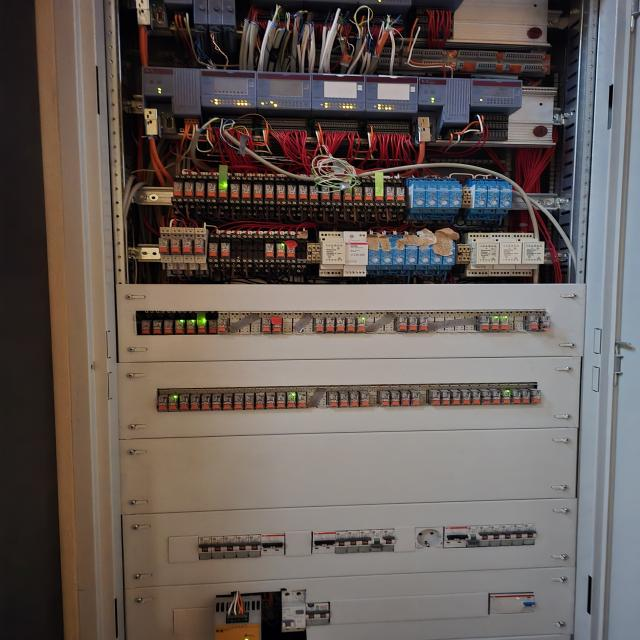Dimmer: (489, 233, 523, 276), (511, 233, 545, 276), (467, 233, 499, 276), (319, 231, 345, 277), (343, 231, 368, 277), (478, 179, 500, 220), (491, 180, 513, 221), (466, 179, 487, 220), (406, 178, 426, 220), (417, 178, 437, 219), (442, 178, 461, 220), (431, 178, 449, 220), (442, 234, 456, 273), (405, 234, 418, 274), (367, 234, 380, 271), (418, 234, 430, 274), (380, 234, 392, 272), (393, 234, 405, 272), (431, 234, 442, 275)
FI: (489, 592, 535, 614)
FI_Sicherungskombi: (281, 591, 306, 632)
Leitungsschutzschalter: (198, 537, 212, 559), (223, 536, 237, 558), (237, 535, 250, 558), (336, 530, 348, 554), (317, 602, 329, 624), (212, 537, 224, 559), (249, 535, 261, 557), (261, 534, 273, 556), (313, 532, 325, 554), (359, 530, 371, 552), (444, 526, 456, 548), (467, 526, 479, 548), (512, 524, 524, 546), (273, 534, 285, 555), (324, 532, 336, 553), (524, 524, 536, 545), (306, 604, 317, 626), (371, 530, 382, 552), (383, 530, 394, 552), (348, 531, 359, 552), (478, 526, 489, 547), (490, 525, 501, 546), (501, 525, 512, 546), (456, 526, 466, 548)
Relais: (218, 318, 230, 334), (170, 238, 181, 254), (265, 393, 276, 409), (526, 316, 538, 330), (276, 185, 287, 200), (478, 316, 489, 331), (184, 181, 194, 197), (287, 184, 297, 200), (364, 186, 374, 202), (158, 238, 168, 254), (182, 238, 192, 254), (194, 238, 204, 254), (396, 316, 406, 332), (297, 392, 307, 408), (328, 391, 338, 407), (350, 391, 360, 407), (442, 390, 452, 406), (229, 184, 240, 198), (196, 182, 206, 197), (207, 182, 217, 197), (218, 183, 228, 198), (253, 184, 263, 199), (298, 185, 308, 200), (309, 185, 319, 200), (353, 186, 363, 201), (208, 243, 218, 258), (490, 316, 500, 331), (276, 393, 286, 408), (375, 186, 384, 202), (408, 316, 417, 332), (223, 394, 232, 410), (245, 394, 254, 410), (360, 391, 369, 407), (242, 184, 252, 198), (220, 243, 230, 257), (140, 320, 150, 334), (197, 320, 207, 334), (272, 318, 282, 332), (418, 317, 428, 331), (168, 396, 178, 410), (190, 396, 200, 410), (201, 396, 211, 410), (212, 395, 222, 409), (234, 395, 244, 409), (339, 392, 349, 406), (482, 391, 492, 405), (174, 182, 183, 197), (265, 184, 274, 199), (276, 243, 285, 258), (346, 317, 355, 332), (499, 316, 508, 331), (541, 316, 550, 331), (287, 393, 296, 408), (391, 391, 400, 406), (431, 390, 440, 405), (256, 393, 264, 409), (321, 186, 330, 200), (332, 186, 341, 200), (396, 187, 405, 201), (265, 244, 274, 258), (208, 320, 217, 334), (262, 318, 271, 332), (315, 318, 324, 332), (336, 318, 345, 332), (357, 318, 366, 332), (180, 396, 189, 410), (380, 392, 389, 406), (412, 391, 421, 405), (532, 390, 541, 404), (159, 396, 167, 411), (472, 392, 482, 404), (502, 390, 510, 405), (522, 389, 530, 404), (386, 187, 395, 200), (493, 391, 502, 404), (512, 391, 521, 404), (287, 244, 295, 258), (154, 320, 162, 334), (165, 320, 173, 334), (176, 320, 184, 334), (326, 318, 334, 332), (462, 391, 470, 405), (344, 187, 352, 200), (187, 320, 195, 333), (453, 391, 461, 404), (402, 391, 409, 405)
SPS-System -Steuerungskomponente-: (200, 69, 256, 108), (256, 71, 312, 110), (311, 72, 366, 111), (365, 75, 417, 114), (143, 66, 200, 96), (418, 76, 471, 107), (471, 78, 522, 108)
Schaltkasten: (72, 0, 622, 639)
Verbinder: (456, 244, 470, 265), (306, 243, 320, 263), (461, 187, 471, 208)
